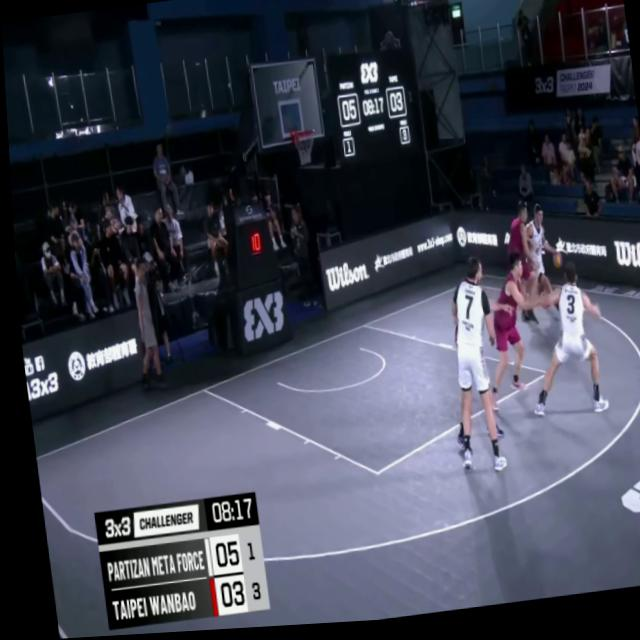ball: (545, 254, 560, 276)
hoop: (284, 125, 317, 177)
player: (425, 250, 508, 455), (432, 257, 506, 482), (511, 264, 607, 429), (472, 254, 557, 408), (509, 204, 565, 328), (499, 208, 547, 331)
